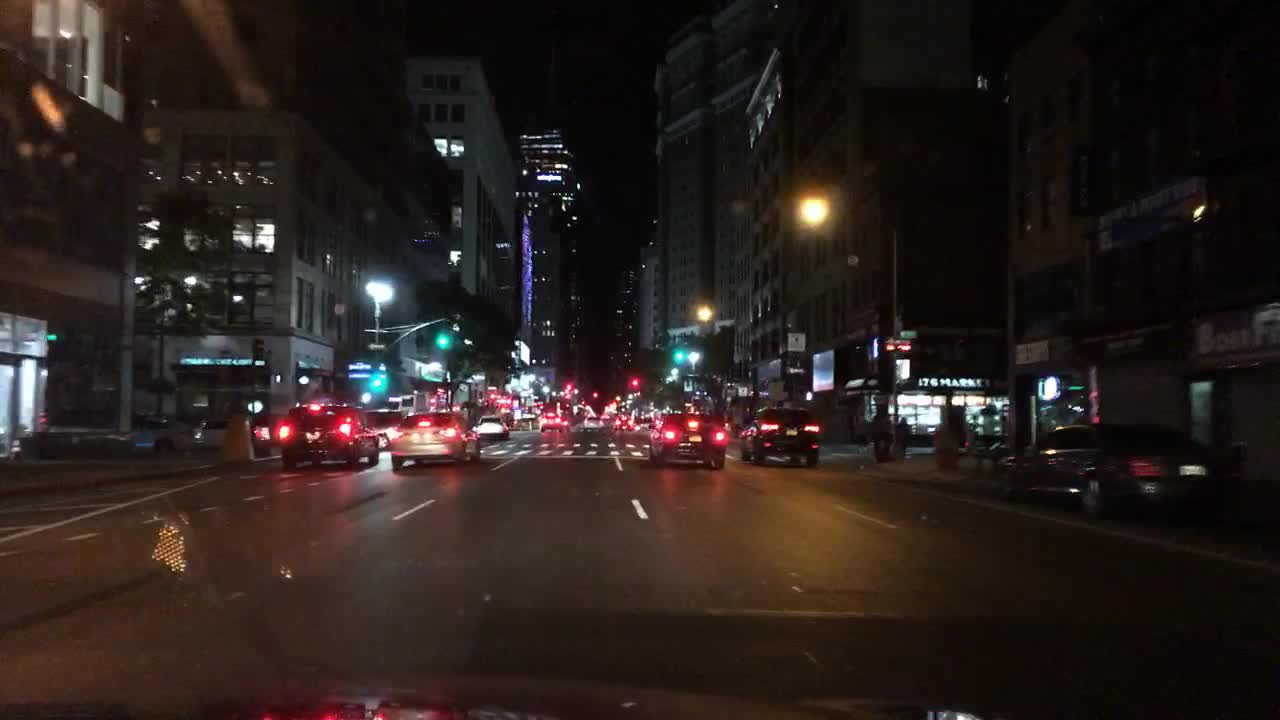car: (994, 418, 1207, 519), (279, 399, 380, 469), (388, 408, 482, 469), (741, 402, 819, 469), (648, 407, 725, 468), (125, 409, 199, 450), (357, 407, 404, 450), (200, 415, 252, 449), (472, 409, 507, 440), (611, 411, 635, 432), (536, 409, 560, 429), (628, 406, 652, 423), (582, 412, 605, 429), (558, 413, 570, 429), (598, 408, 613, 420)
person: (897, 415, 910, 458), (978, 410, 994, 436)
traffic light: (371, 370, 387, 394), (435, 328, 451, 347), (671, 344, 684, 363), (561, 380, 575, 393), (628, 375, 639, 390)
traffic sign: (787, 332, 806, 351), (367, 341, 386, 352), (899, 330, 919, 340)
